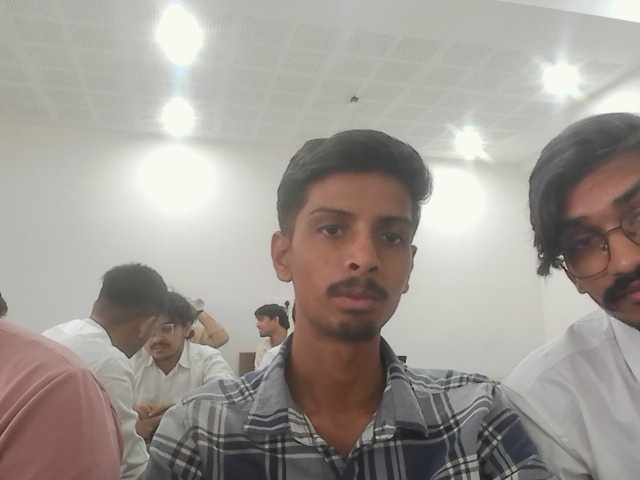light_off: (538, 193, 571, 271)
light_on: (553, 78, 637, 129), (151, 87, 203, 133), (443, 115, 493, 162), (615, 5, 636, 25)
person: (147, 125, 529, 479), (487, 115, 639, 479), (34, 260, 163, 478), (0, 270, 118, 478), (125, 288, 237, 479), (251, 303, 290, 370)
